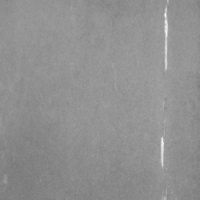scratches: (158, 0, 175, 74), (157, 133, 169, 170)
